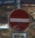No entry: (6, 5, 30, 32)
